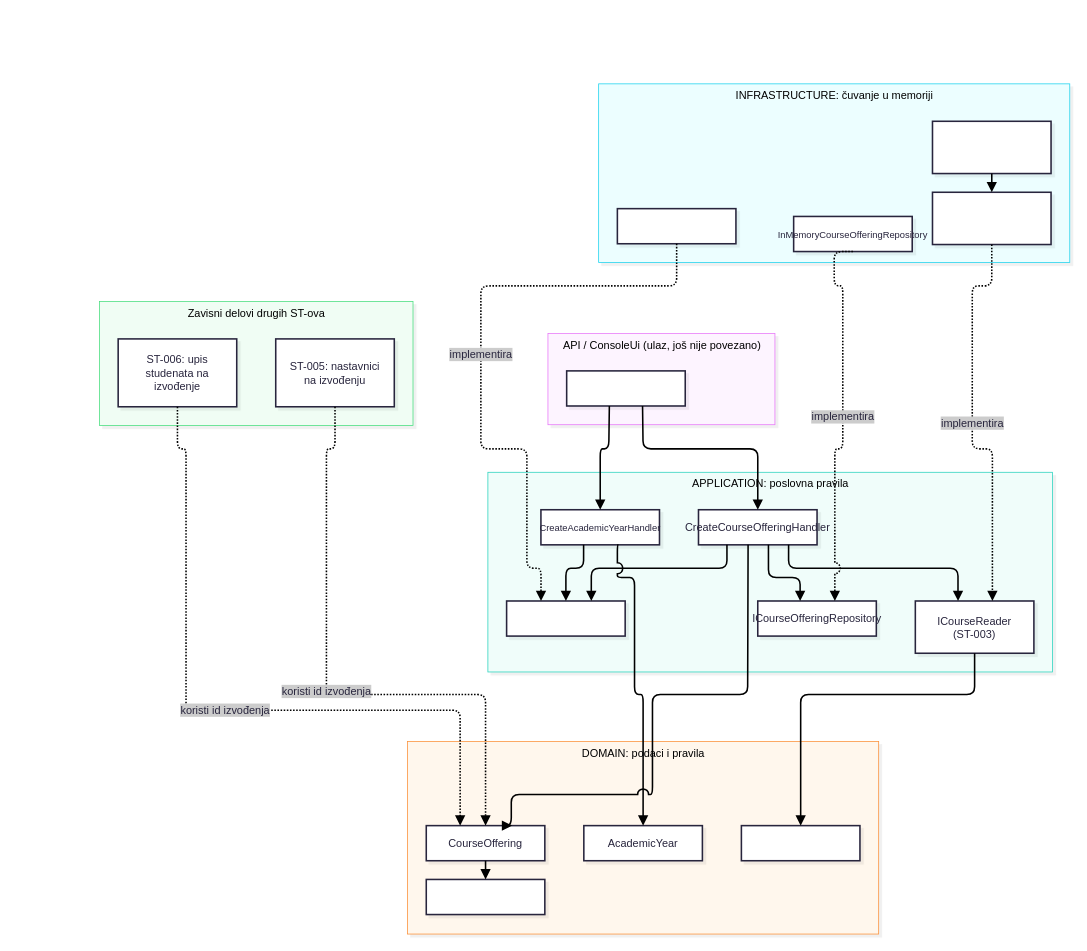
This 1087x951 diagram has some shape labels left out. Each missing label, with the centre of its shape:
"Course (ST-003)" belongs at (x=801, y=844).
"DemoData (ERS, OIB)" belongs at (x=993, y=148).
"IAcademicYearRepository" belongs at (x=567, y=620).
"InMemoryAcademicYearRepository" belongs at (x=677, y=227).
"InMemoryCourseReader (ST-003)" belongs at (x=993, y=219).
"OfferingState" belongs at (x=486, y=898).
"Poziva handlere" belongs at (x=627, y=390).
